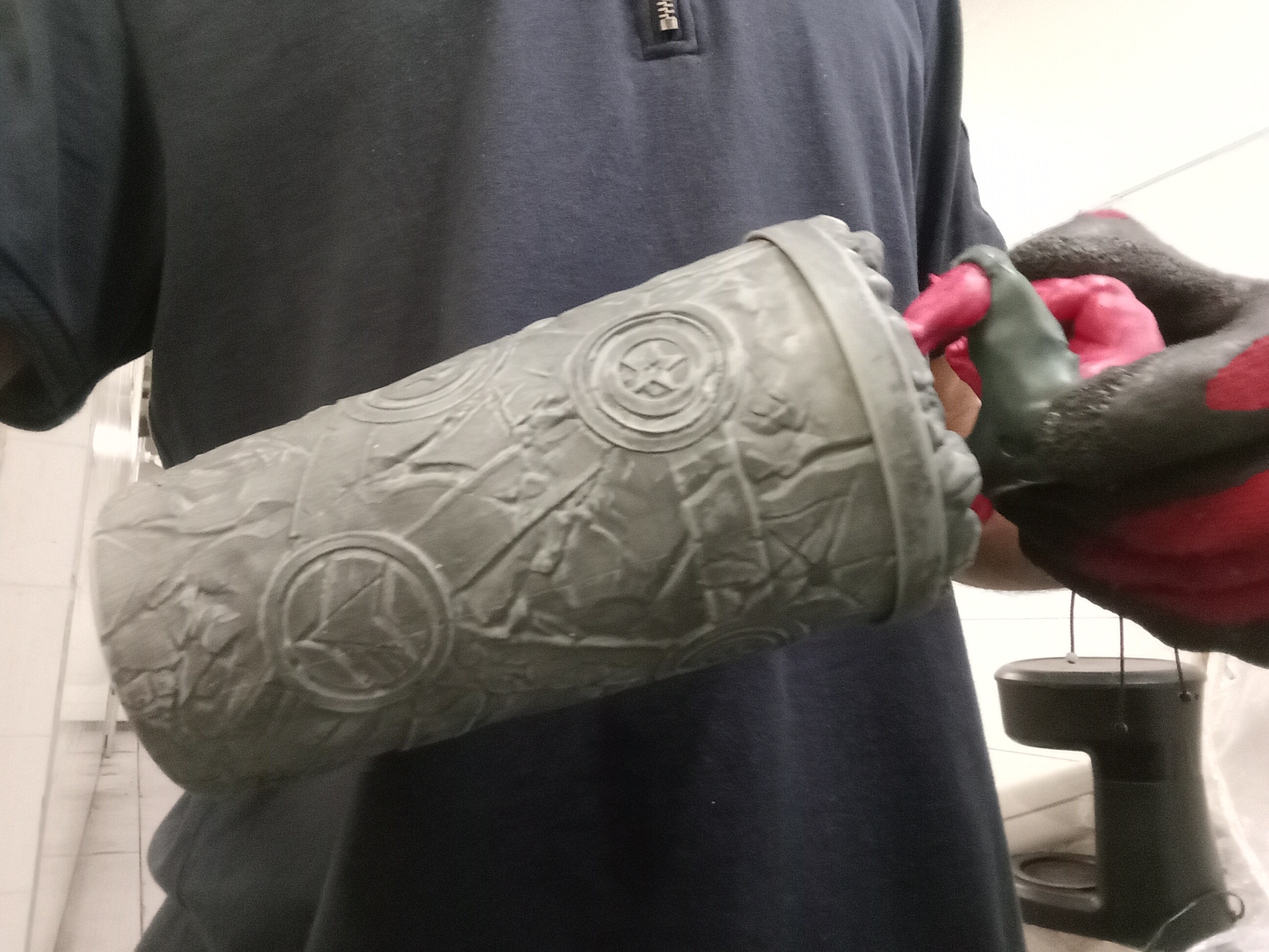Ordinario: (92, 211, 988, 795)
